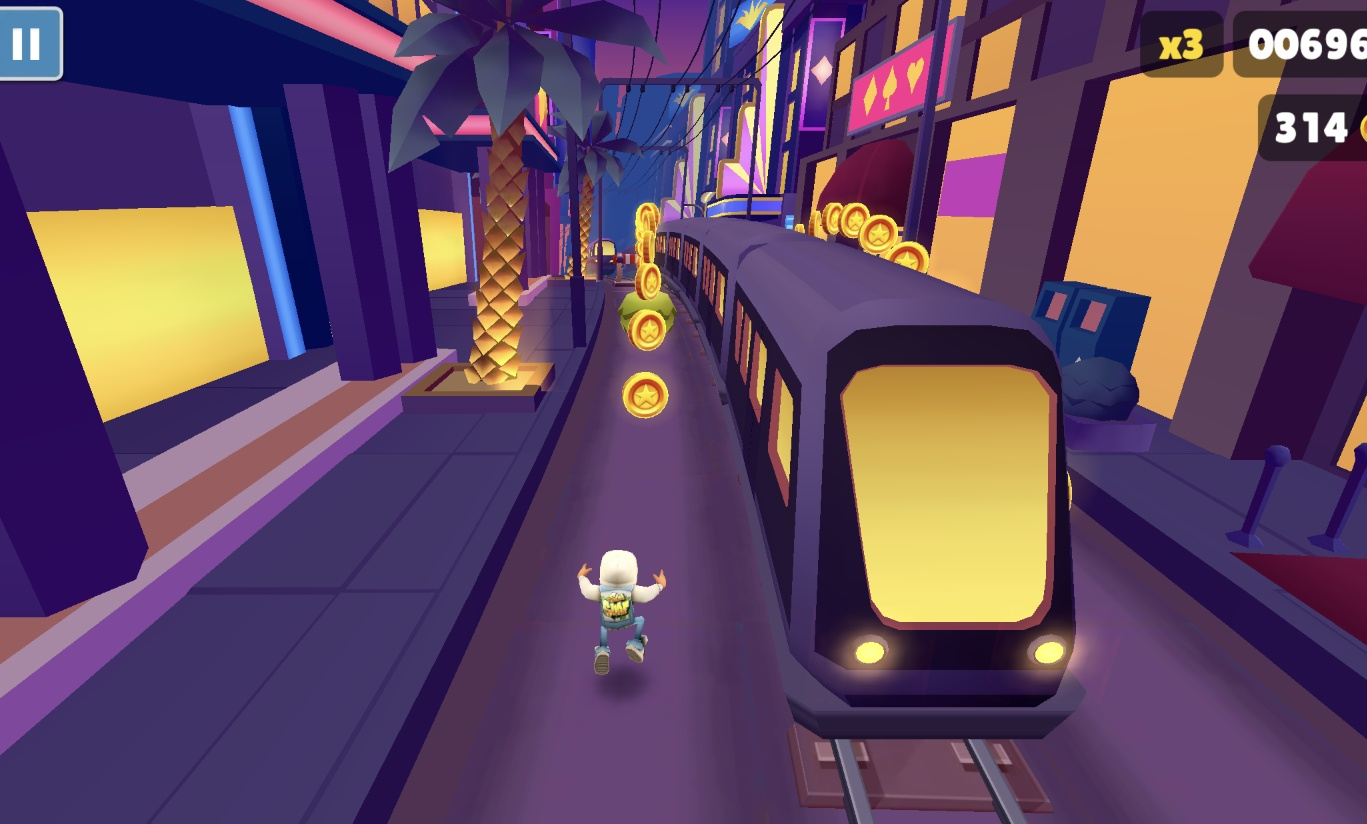bush: (617, 293, 677, 340)
ground_barrier: (608, 253, 641, 287)
train: (655, 217, 1077, 742), (597, 240, 618, 280)
